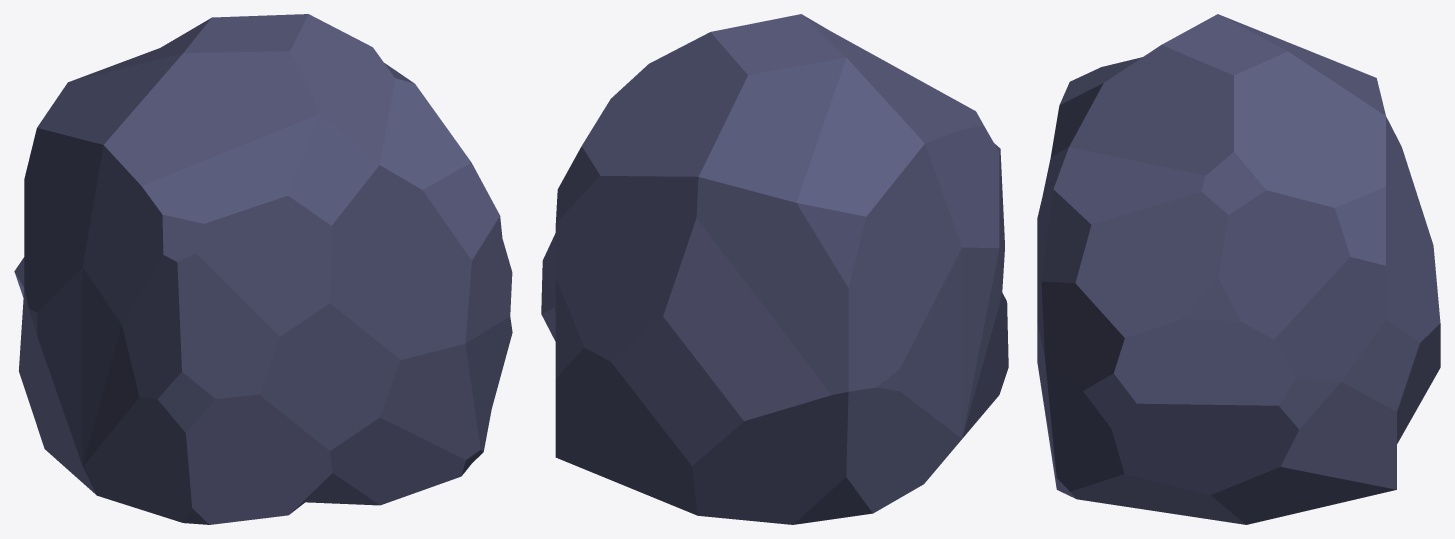
File: Rock2.fbx
3 views of the same model, side by side, from view 1: azimuth 30°, elevation 25°; view 2: azimuth 150°, elevation 25°; view 3: azimuth 270°, elevation 25° (orthographic). The views are drawn at different scales.
Visible parts, largest first — view 1: Cube; view 2: Cube; view 3: Cube.
Boxes of the visible parts, bbox=[...] form: Cube: bbox=[14, 14, 512, 524]; Cube: bbox=[541, 14, 1008, 524]; Cube: bbox=[1037, 14, 1440, 524].
Bounding box in the file's own units: 263 × 275 × 247.
